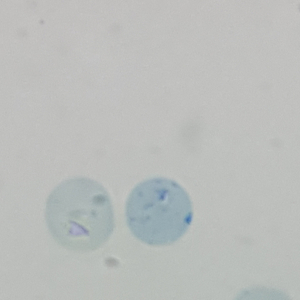aggregate reticulocyte: (123, 177, 195, 248)
erythrocyte: (42, 176, 116, 254)
